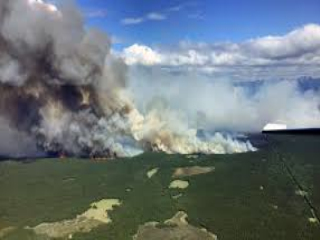smoke: (4, 17, 264, 156)
